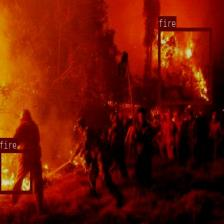fire: (158, 28, 211, 104), (0, 148, 32, 194)
